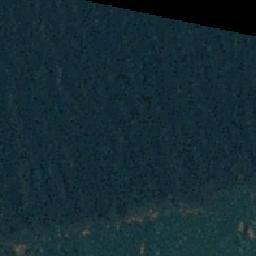debris: (102, 206, 123, 230), (128, 210, 162, 222), (235, 222, 256, 239), (162, 206, 209, 213), (134, 242, 149, 250), (78, 227, 91, 236)
